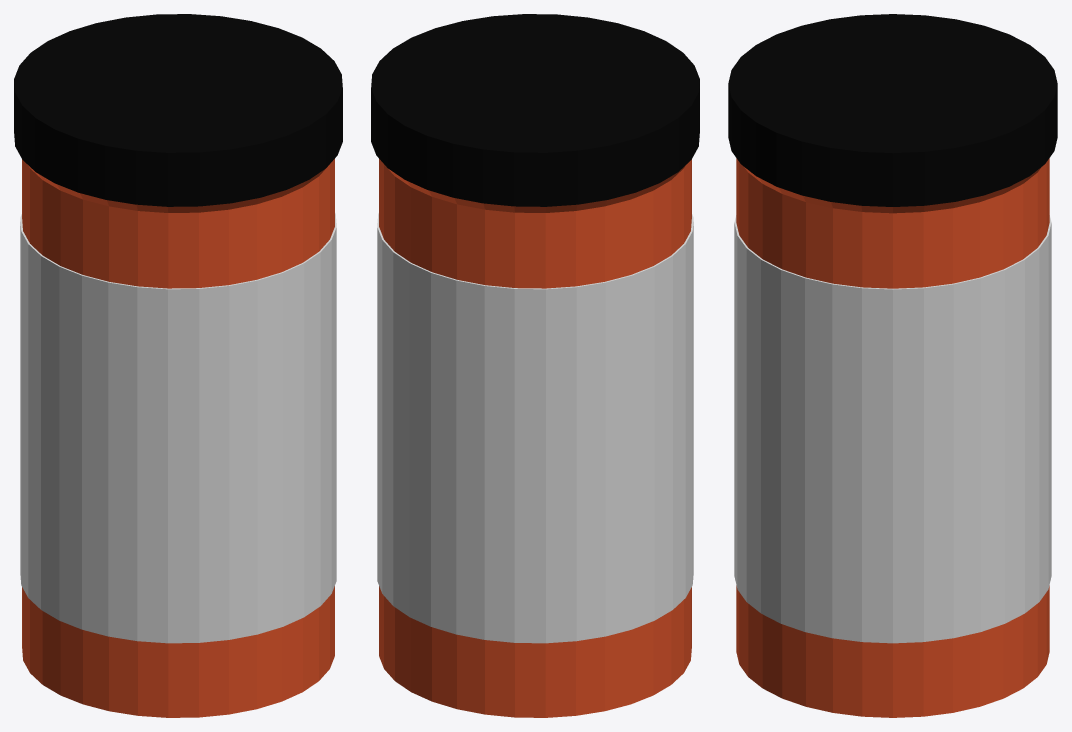
Rendered from pill bottle.fbx.
3 renders of one model, left to right at view 1: azimuth 30°, elevation 25°; view 2: azimuth 150°, elevation 25°; view 3: azimuth 270°, elevation 25°, orthographic.
Visible parts, largest first — view 1: Cylinder.001; view 2: Cylinder.001; view 3: Cylinder.001.
Boxes of the visible parts, x1,y1,x2,y2 form: Cylinder.001: [14, 14, 342, 717]; Cylinder.001: [371, 14, 699, 717]; Cylinder.001: [728, 14, 1057, 717].
Size of the model in its own units: 14.65 by 27.88 by 14.65.
